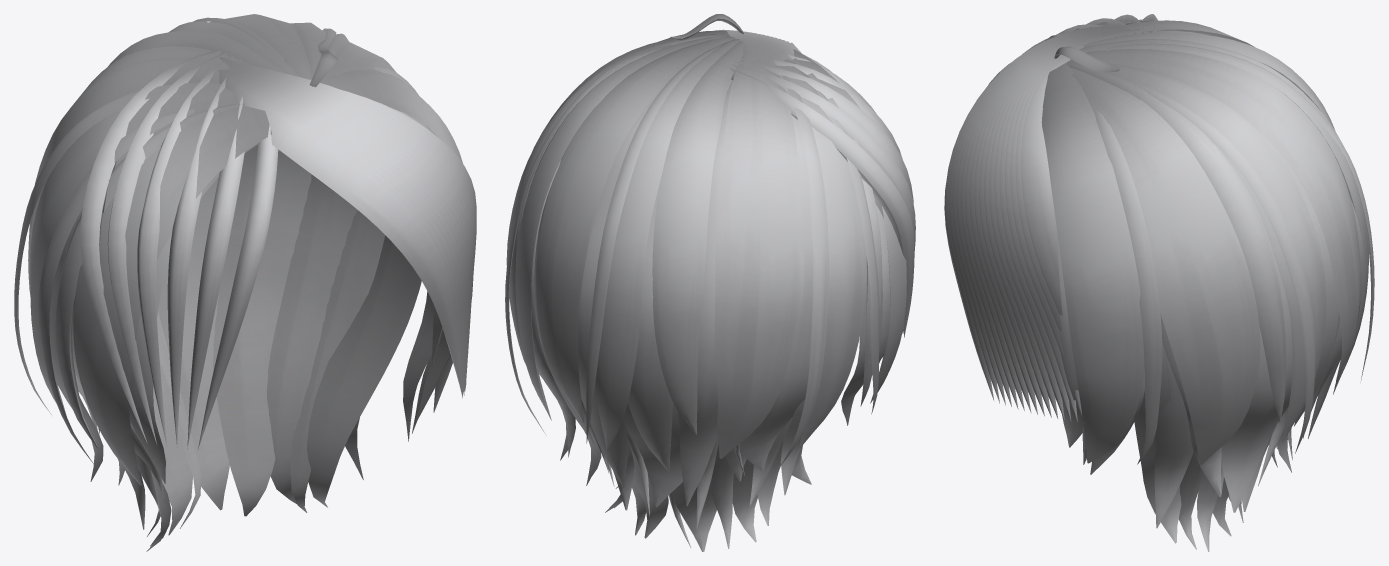
The model's file is vroid_hair_c11v4.glb.
The picture shows the model from 3 angles, left to right: view 1: azimuth 30°, elevation 25°; view 2: azimuth 150°, elevation 25°; view 3: azimuth 270°, elevation 25°; orthographic projection. The views are drawn at different scales.
Visible parts, largest first — view 1: hair; view 2: hair; view 3: hair.
Part boxes in pixels (x1,y1,x2,y2): hair: (14,14,476,551); hair: (505,14,915,551); hair: (944,14,1374,551).
Size of the model in its own units: 0.2174 by 0.2737 by 0.2193.
1 material, 1 textured.
